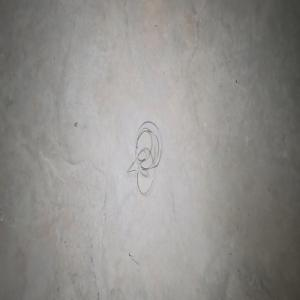Wire: (126, 121, 161, 194)
